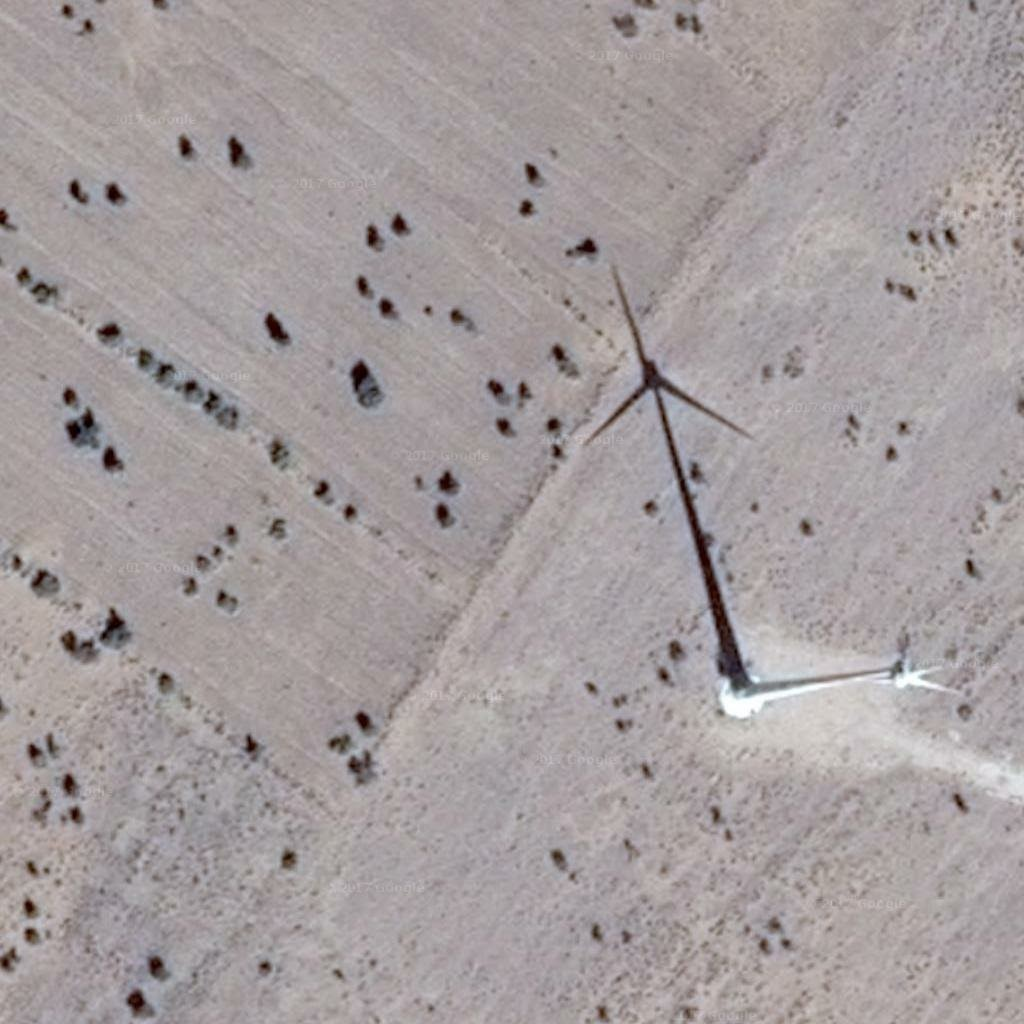Windmill: (580, 251, 752, 657)
